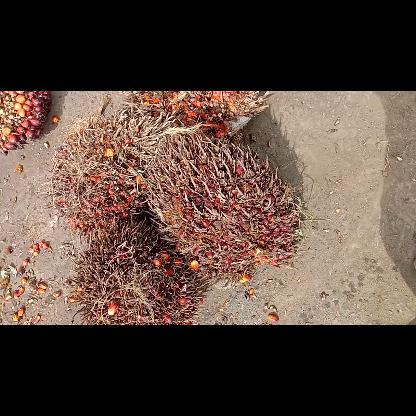Terlalu masak: (145, 134, 299, 280), (49, 110, 175, 232), (70, 216, 202, 324), (134, 91, 268, 138)
